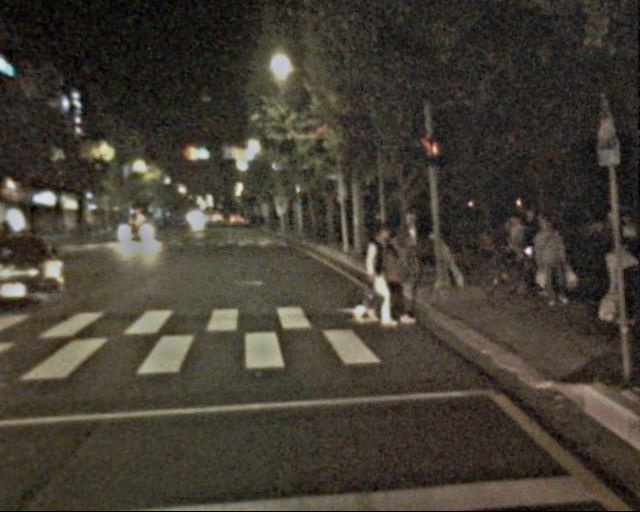person: (506, 209, 561, 295), (359, 226, 402, 330), (596, 231, 637, 330), (529, 217, 568, 312), (599, 204, 637, 297)
